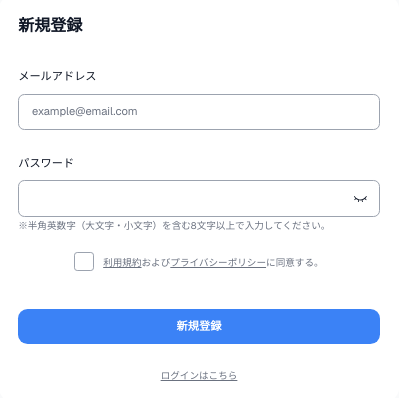
it: SignUpForm › 不正なパスワードで送信するとエラーメッセージが表示され、signUpActionは呼ばれない
Type "valid@example.com" into the field labelled "メールアドレス".
click(199, 112); type("valid@example.com")  # box [18,94,380,130]
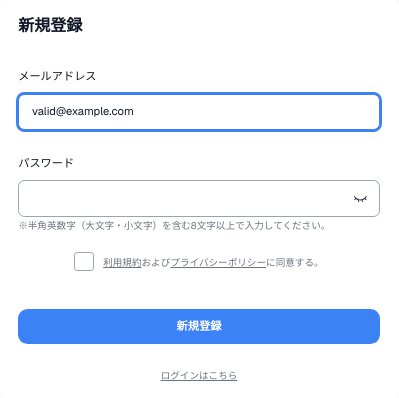
Type "short" into the password field labelled "パスワード".
click(199, 198); type("short")  # box [18,180,380,217]
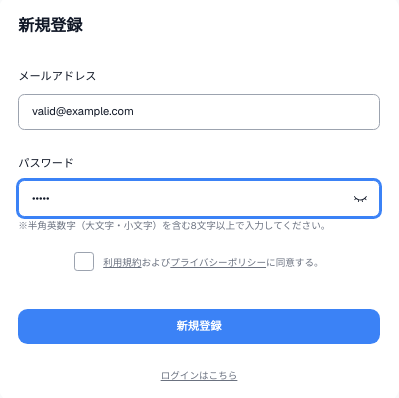
Click the checkbox.
click(84, 261)  # box [74,252,94,271]
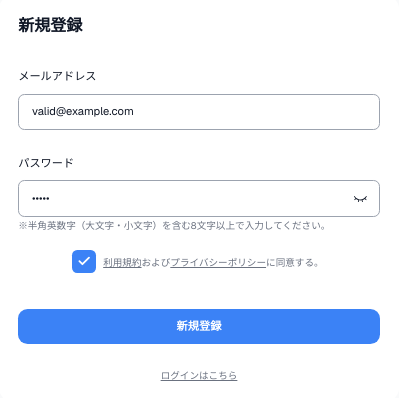
Click the button "新規登録".
click(199, 327)  # box [18,309,380,344]
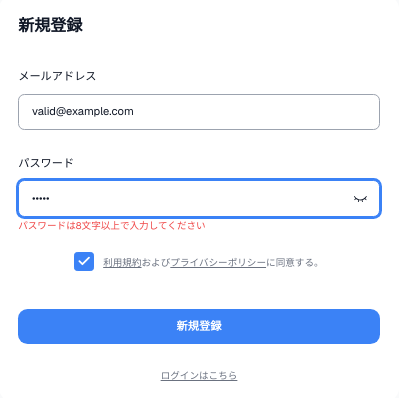
Expected: the text "パスワードは8文字以上で入力してください" is shown, [18,219,206,232]
